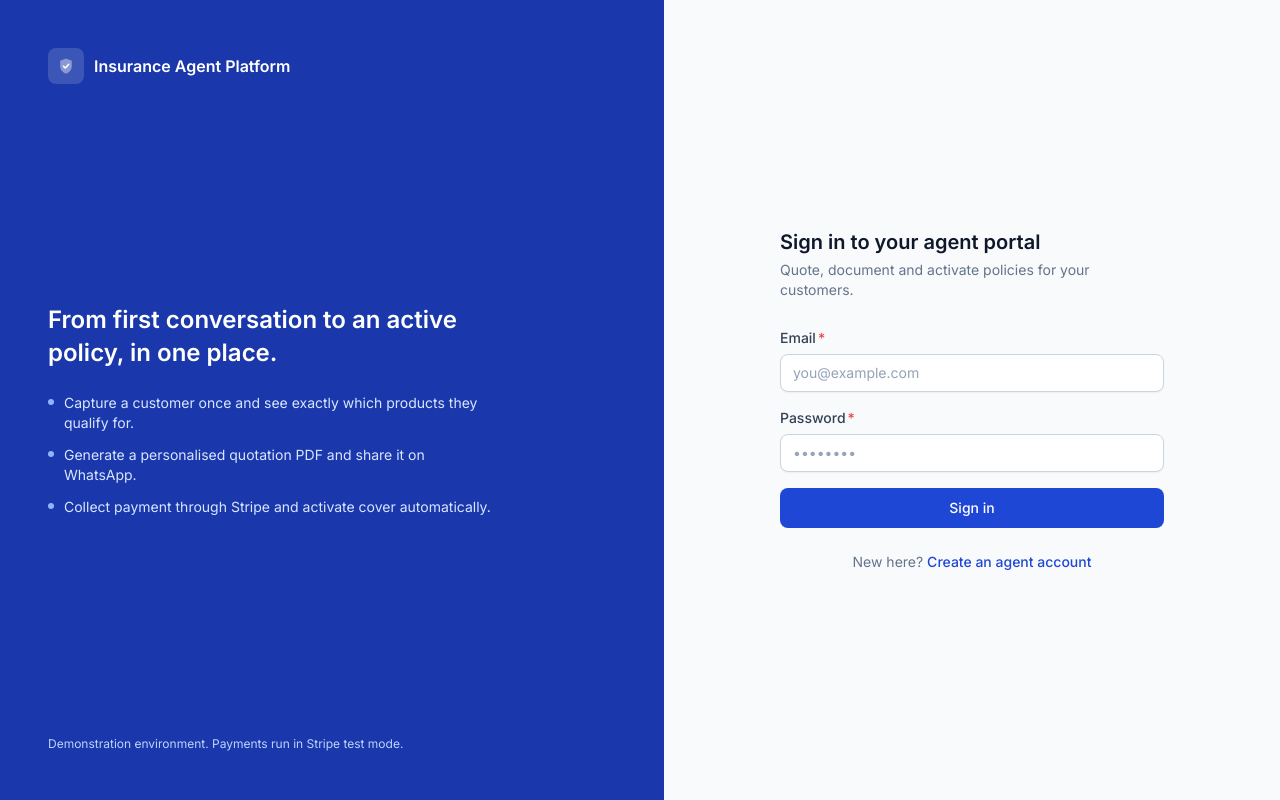
Scenario: <LoginPage /> › maps server field errors onto the right inputs
Type "bad@" into the field labelled "Email*" at [972, 373], box x1=780 y1=354 x2=1164 y2=392
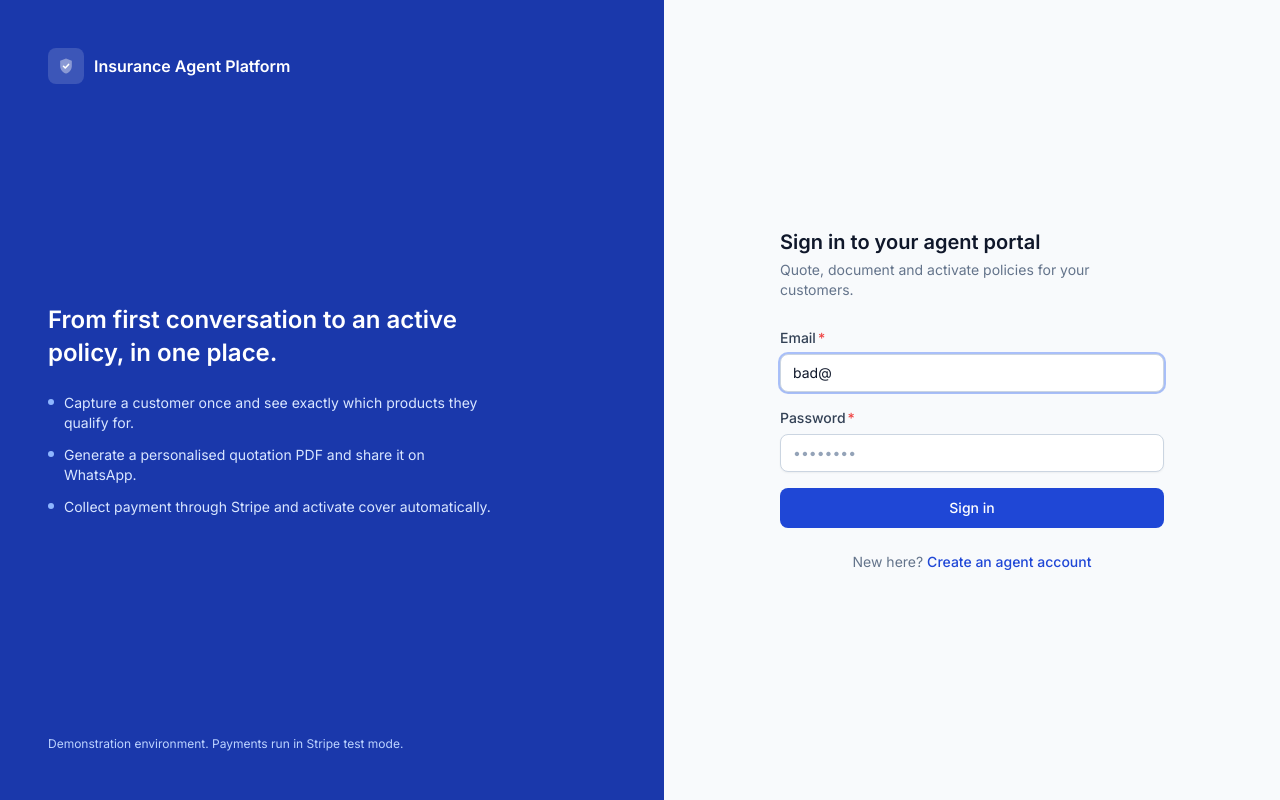
Type "Str0ngPassword" into the password field labelled "Password*" at [972, 453], box x1=780 y1=434 x2=1164 y2=472
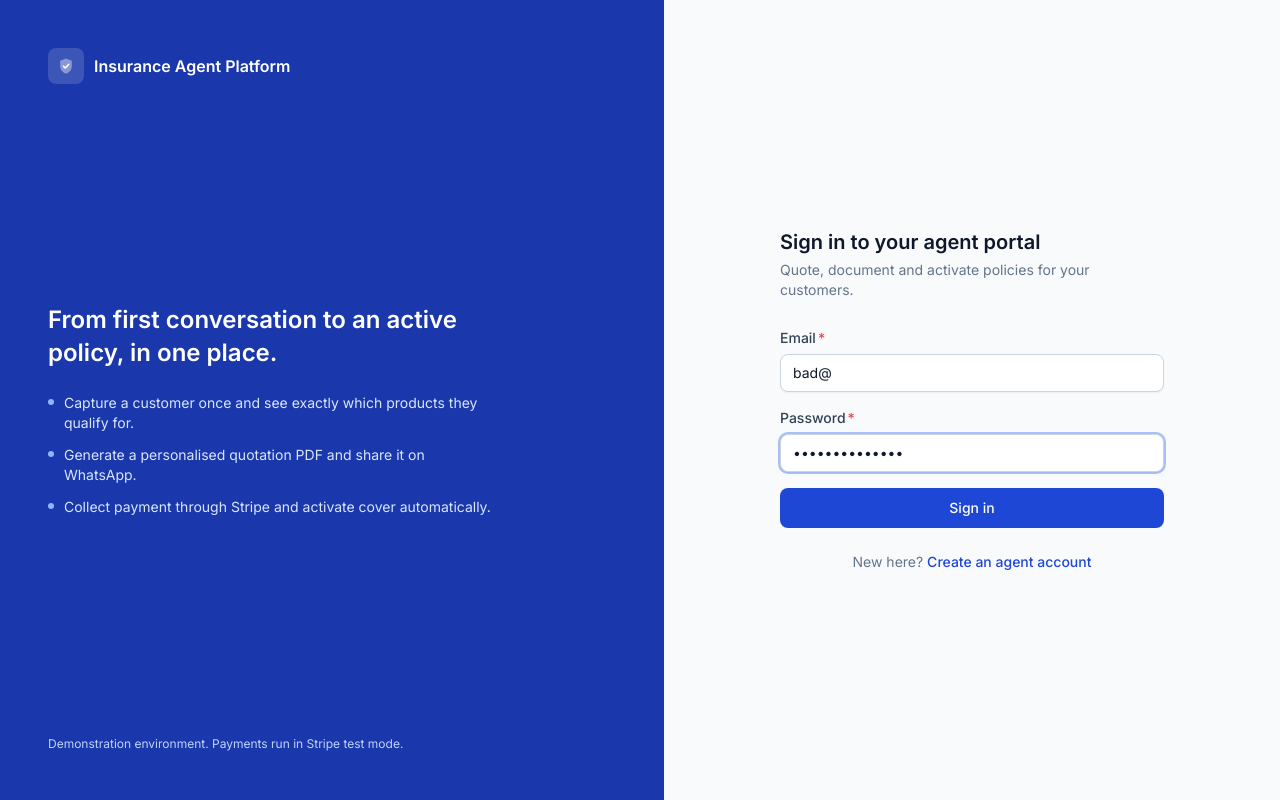
Click the button "Sign in" at [972, 508], box x1=780 y1=488 x2=1164 y2=528
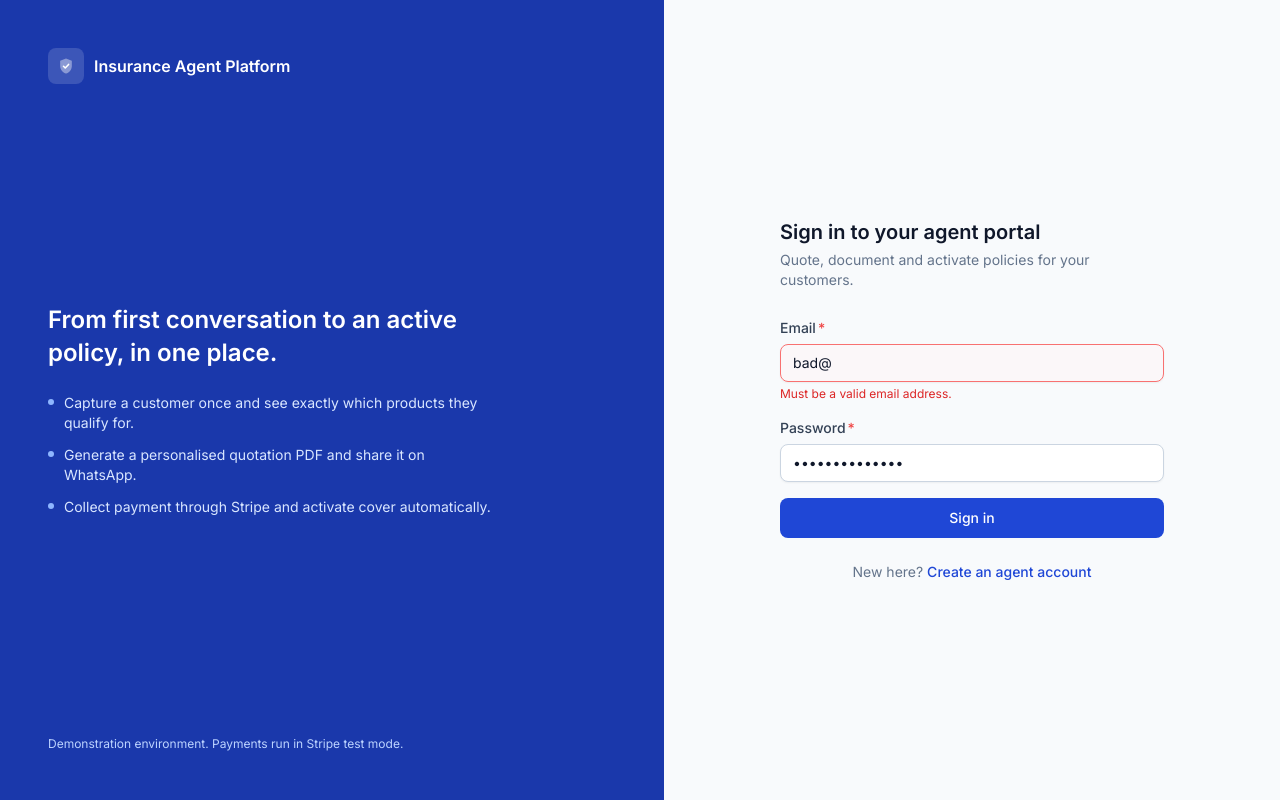
expect the text "Must be a valid email address." is shown: met, box x1=780 y1=386 x2=952 y2=401
